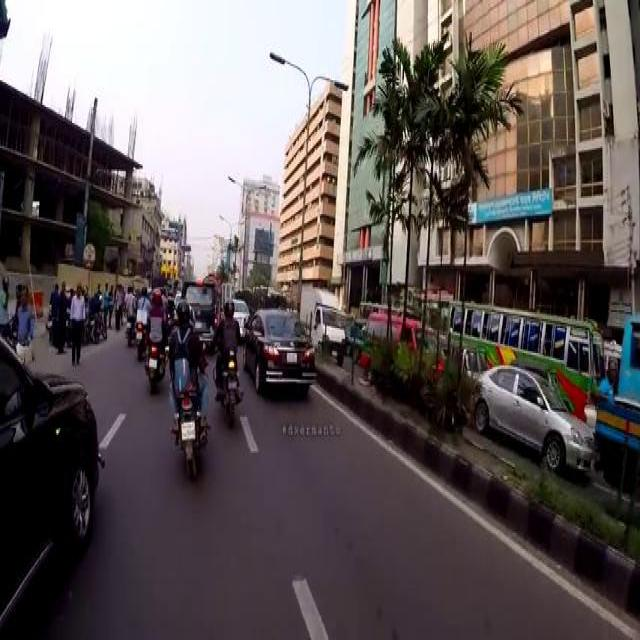bus: (446, 296, 602, 396), (356, 299, 412, 320)
car: (470, 363, 594, 473), (240, 306, 316, 386), (228, 296, 248, 333)
minivan: (360, 309, 444, 381)
motorbike: (172, 358, 206, 478), (212, 344, 242, 424), (145, 333, 165, 389), (136, 316, 146, 356), (124, 314, 132, 346)
pickup: (299, 282, 346, 358)
suv: (0, 332, 98, 625)
van: (180, 278, 216, 342)
